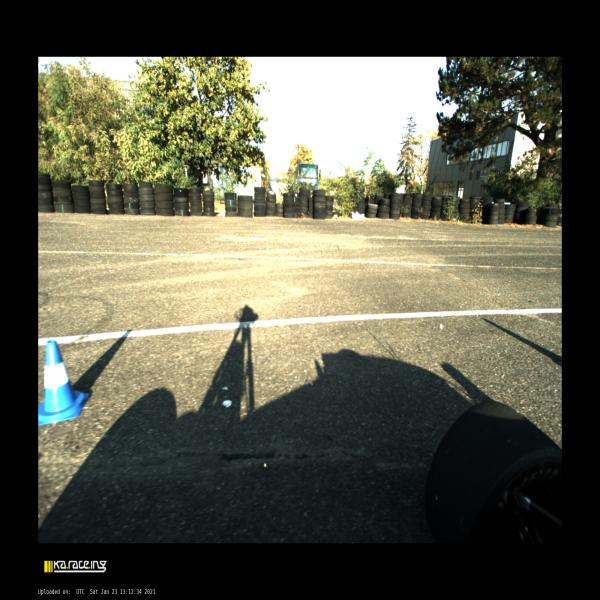blue_cone: (38, 339, 91, 426)
